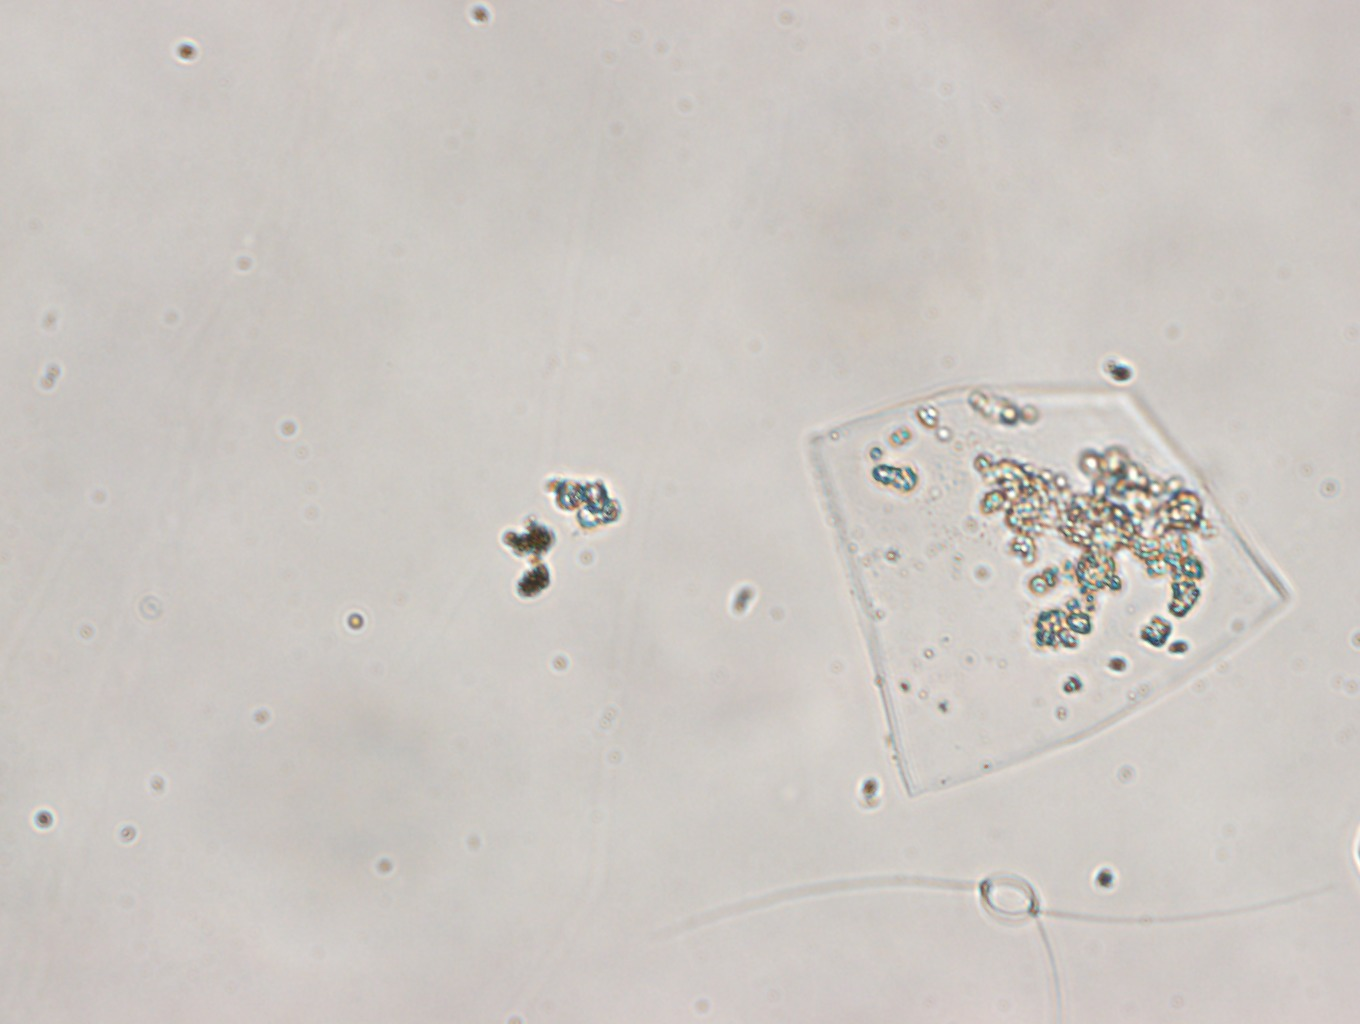chaetoceros: (679, 870, 1360, 1004)
helicotheca: (806, 385, 1295, 798)
